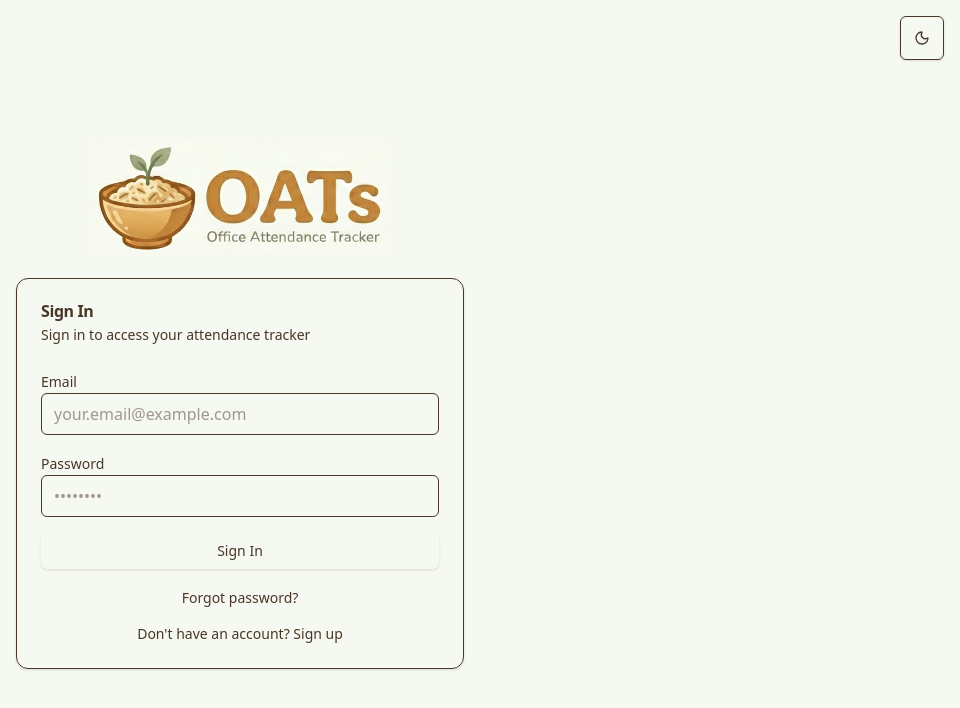
Scenario: LoginPage › Rendering › should switch back to sign in mode
# Switch to sign up
Click the button "Sign up": point(318, 634) [293,624,343,644]
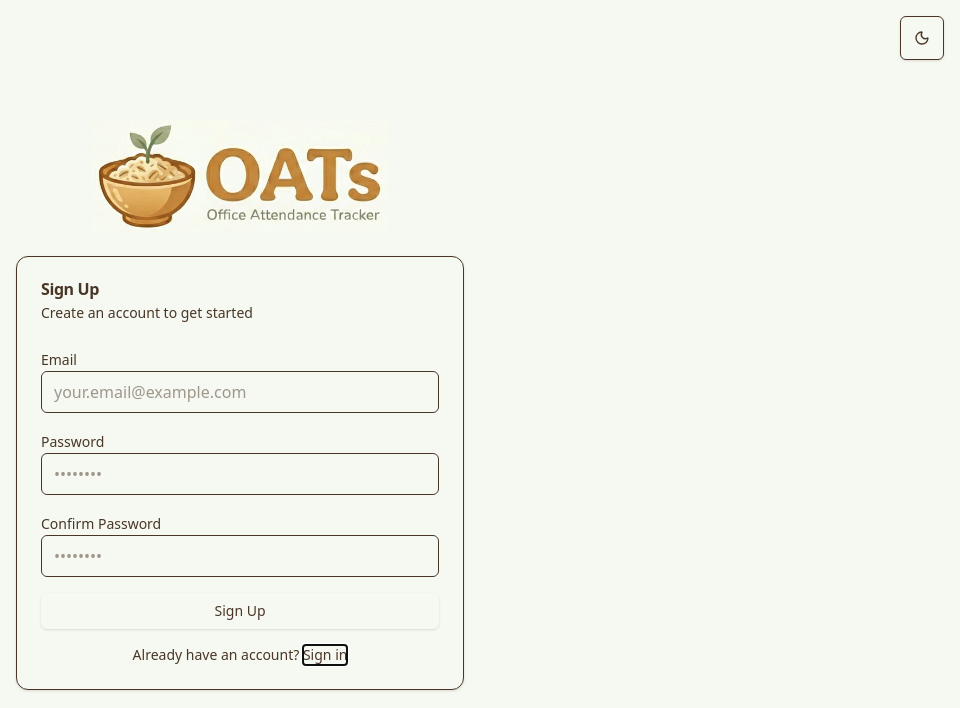
Expected: the password field labelled "Confirm Password" is shown, [41,535,439,577]
# Switch back to sign in
Click the button "Sign in": point(325, 655) [303,645,347,665]
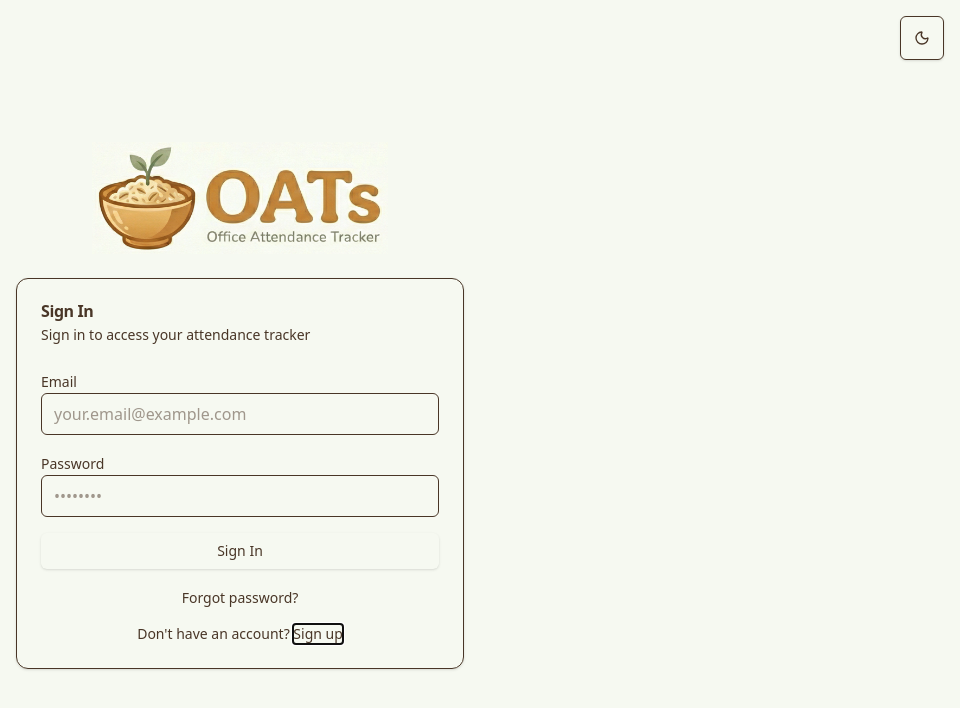
Expected: the label labelled "Confirm Password" is gone
Expected: the button "Forgot password?" is shown, [41,588,439,608]
